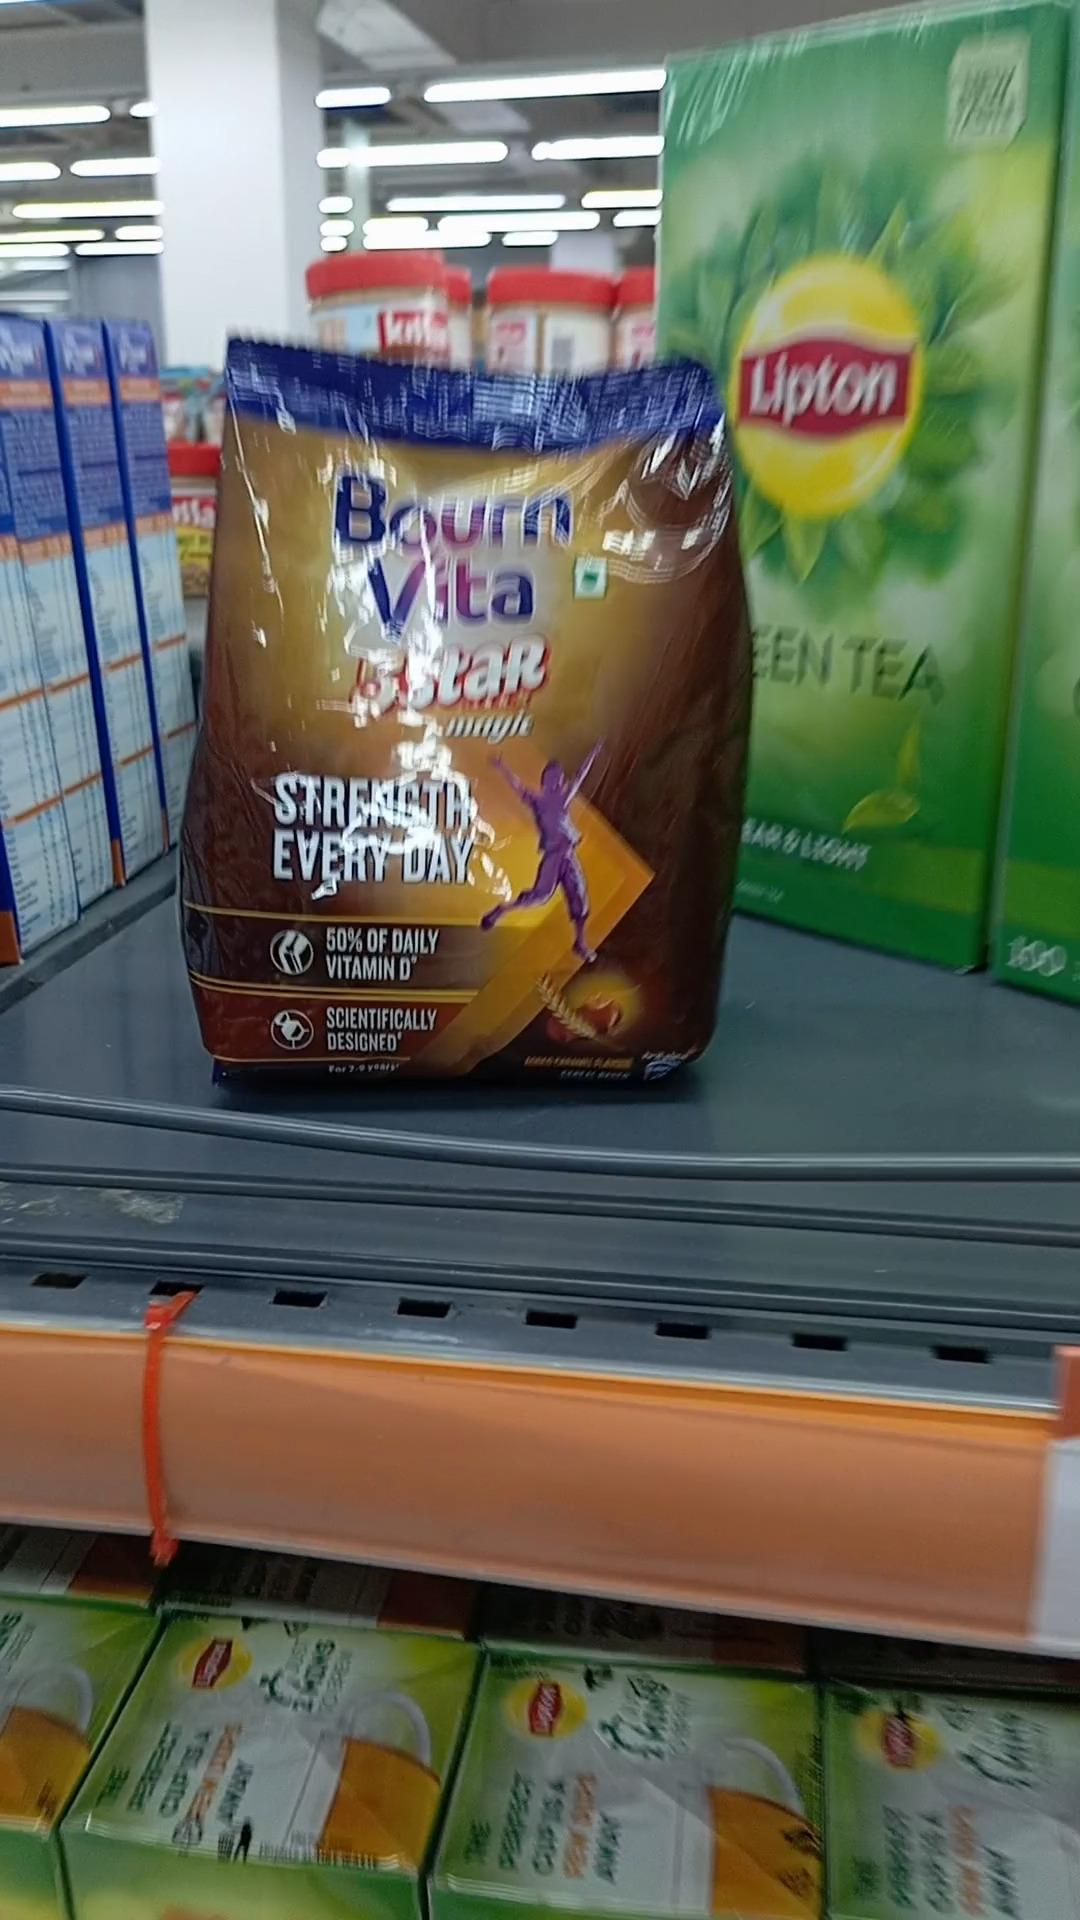BOURN_VITA_FIVE_STAR_MAGIC_500_G_POUCH: (215, 345, 732, 1096)
